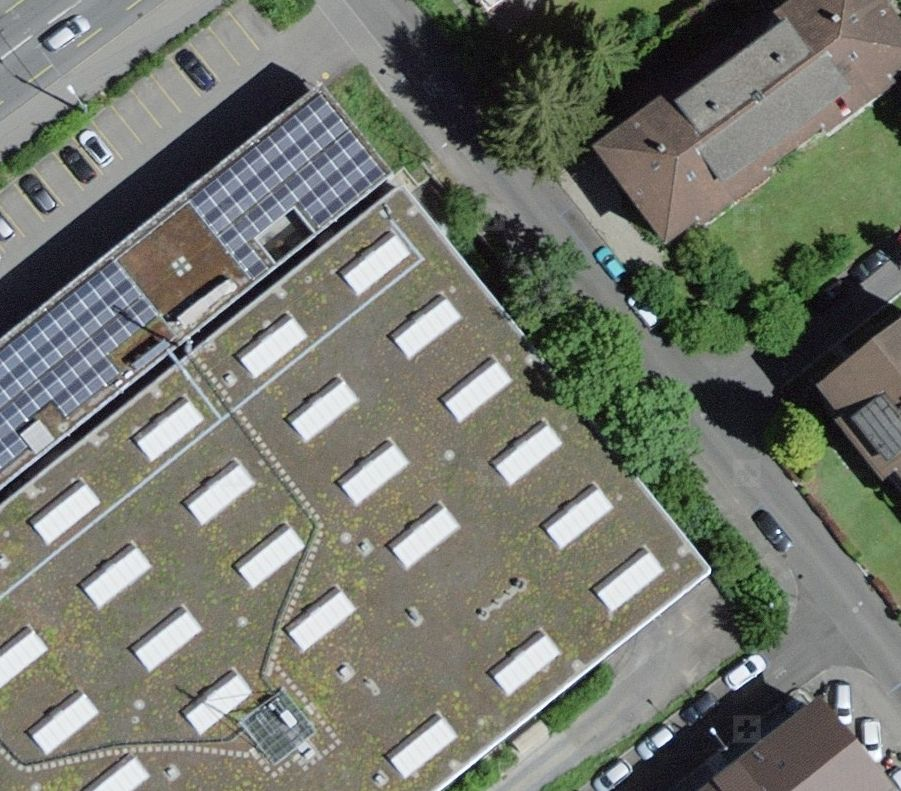solar: (187, 89, 395, 285), (1, 258, 156, 460)
